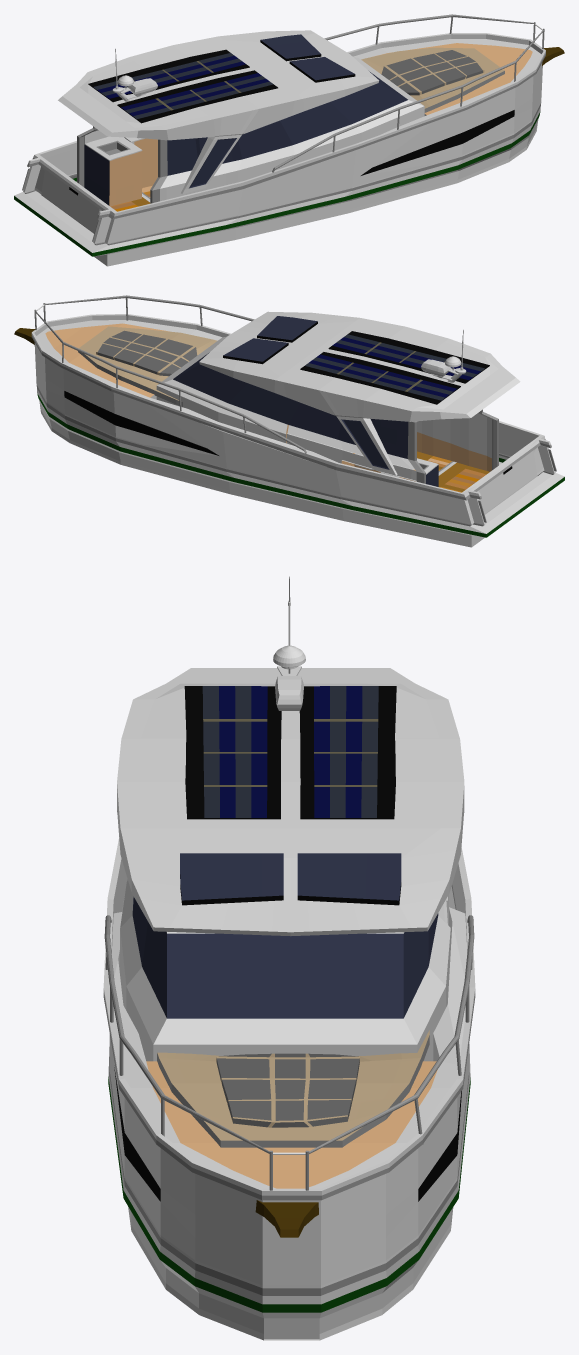
File: Bateau Final.fbx
3 views of the same model, one above another, from view 1: azimuth 30°, elevation 25°; view 2: azimuth 150°, elevation 25°; view 3: azimuth 270°, elevation 25° (orthographic). The views are drawn at different scales.
Visible parts, largest first — view 1: bat du bateau, toit, vitre, capo, barre haut, antaine; view 2: bat du bateau, toit, vitre, capo, barre haut, antaine; view 3: toit, bat du bateau, vitre, capo, barre haut, antaine, avant.
Part boxes in pixels (<box>): bat du bateau: <box>14,33,545,266</box>; toit: <box>58,30,379,194</box>; vitre: <box>77,57,424,211</box>; capo: <box>361,47,504,112</box>; barre haut: <box>272,14,543,172</box>; antaine: <box>112,48,157,101</box>; bat du bateau: <box>31,314,564,547</box>; toit: <box>199,311,520,475</box>; vitre: <box>156,336,498,492</box>; capo: <box>78,326,217,406</box>; barre haut: <box>35,295,306,453</box>; antaine: <box>421,329,466,382</box>; toit: <box>117,668,464,936</box>; bat du bateau: <box>103,837,475,1340</box>; vitre: <box>120,879,450,1061</box>; capo: <box>157,1030,429,1147</box>; barre haut: <box>104,915,474,1153</box>; antaine: <box>273,576,305,710</box>; avant: <box>255,1200,318,1237</box>.
Size of the model in its own units: 1265 by 426 by 400.
